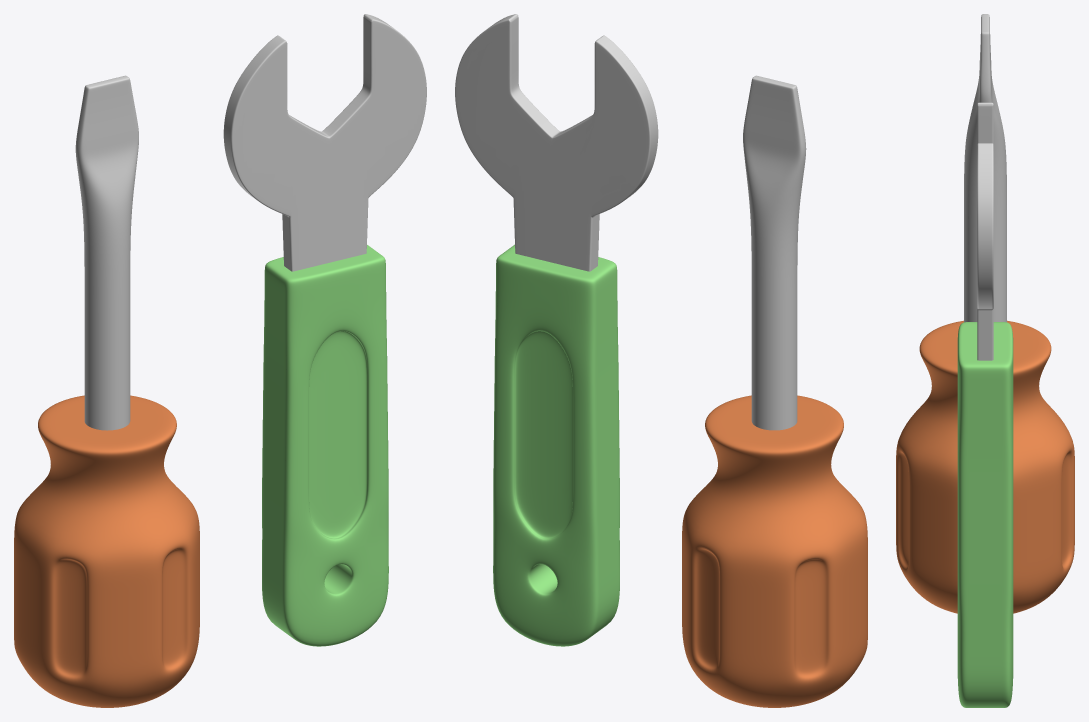
The model's file is tools.glb.
The picture shows the model from 3 angles, left to right: view 1: azimuth 30°, elevation 25°; view 2: azimuth 150°, elevation 25°; view 3: azimuth 270°, elevation 25°; orthographic projection. The views are drawn at different scales.
Visible parts, largest first — view 1: Cylinder.012; view 2: Cylinder.012; view 3: Cylinder.012.
Part boxes in pixels (x1=…): Cylinder.012: x1=14, y1=14, x2=426, y2=707; Cylinder.012: x1=455, y1=14, x2=867, y2=707; Cylinder.012: x1=896, y1=14, x2=1074, y2=707.
Bounding box in the file's own units: 1.31 × 1.94 × 0.5427.
